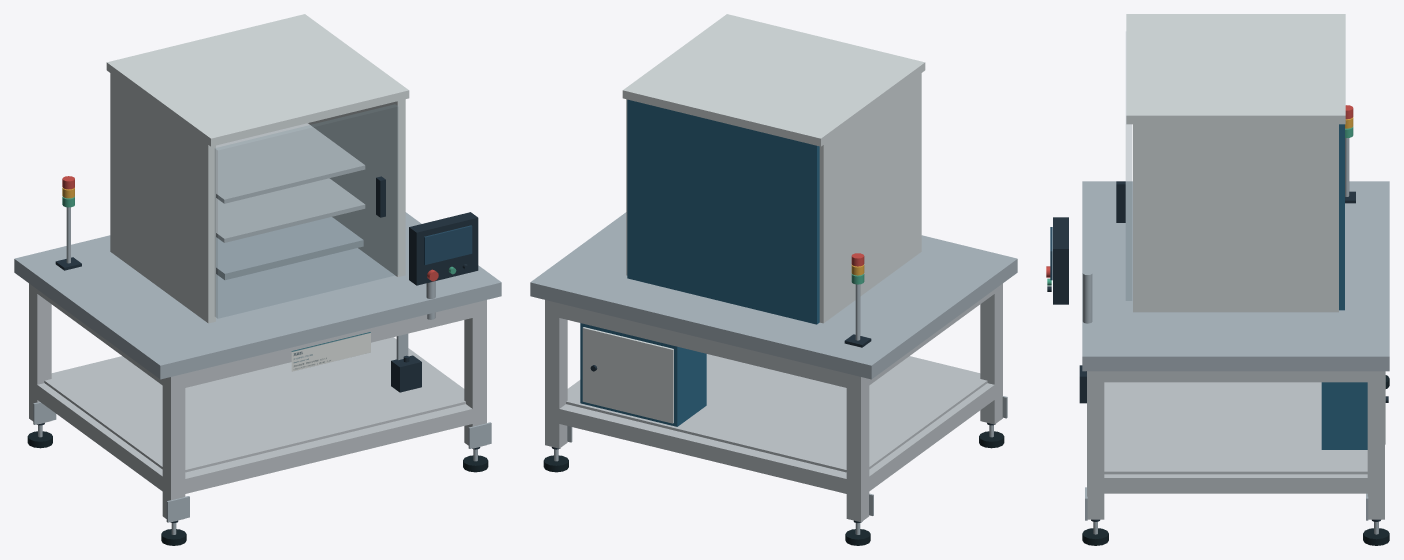
Rendered from steam-cooker-cell.glb.
3 views of the same model, side by side, from view 1: azimuth 30°, elevation 25°; view 2: azimuth 150°, elevation 25°; view 3: azimuth 270°, elevation 25° (orthographic). The views are drawn at different scales.
Visible parts, largest first — view 1: ClosedMachineBed_28, DoorFrame_52, LowerShelf_29, ClosedRoof_51, EnclosureSide_48, EnclosureSide_49, InternalRack_56, SlottedExtrusion_22, InternalRack_55, ProcessShelf_54, SlottedExtrusion_23, SlottedExtrusion_8 (+8 smaller); view 2: ClosedBack_50, ClosedMachineBed_28, ClosedRoof_51, LowerShelf_29, EnclosureSide_48, BackDoor_31, SlottedExtrusion_20, SlottedExtrusion_21, SlottedExtrusion_3, Cabinet_30, SlottedExtrusion_13, SlottedExtrusion_24 (+2 smaller); view 3: EnclosureSide_49, ClosedMachineBed_28, ClosedRoof_51, LowerShelf_29, SlottedExtrusion_26, SlottedExtrusion_27, Cabinet_30, SlottedExtrusion_18, SlottedExtrusion_13, ConsoleBack_34, ClosedBack_50, DoorFrame_52 (+2 smaller).
Boxes of the visible parts, left/top/right/bottom form: ClosedMachineBed_28: left=14, top=212, right=501, bottom=379; DoorFrame_52: left=215, top=104, right=398, bottom=318; LowerShelf_29: left=44, top=338, right=465, bottom=472; ClosedRoof_51: left=106, top=14, right=409, bottom=146; EnclosureSide_48: left=110, top=73, right=215, bottom=323; EnclosureSide_49: left=308, top=99, right=405, bottom=276; InternalRack_56: left=216, top=123, right=365, bottom=203; SlottedExtrusion_22: left=178, top=404, right=476, bottom=495; InternalRack_55: left=216, top=178, right=365, bottom=242; ProcessShelf_54: left=216, top=217, right=363, bottom=280; SlottedExtrusion_23: left=178, top=303, right=472, bottom=388; SlottedExtrusion_8: left=162, top=373, right=185, bottom=522; ClosedBack_50: left=627, top=99, right=819, bottom=324; ClosedMachineBed_28: left=530, top=212, right=1017, bottom=379; ClosedRoof_51: left=622, top=14, right=925, bottom=146; LowerShelf_29: left=566, top=354, right=987, bottom=472; EnclosureSide_48: left=819, top=73, right=921, bottom=323; BackDoor_31: left=582, top=327, right=673, bottom=423; SlottedExtrusion_20: left=553, top=404, right=853, bottom=494; SlottedExtrusion_21: left=559, top=303, right=853, bottom=387; SlottedExtrusion_3: left=846, top=373, right=869, bottom=522; Cabinet_30: left=580, top=323, right=706, bottom=426; SlottedExtrusion_13: left=545, top=300, right=567, bottom=448; SlottedExtrusion_24: left=865, top=383, right=994, bottom=493; EnclosureSide_49: left=1133, top=124, right=1338, bottom=312; ClosedMachineBed_28: left=1082, top=181, right=1389, bottom=371; ClosedRoof_51: left=1126, top=14, right=1345, bottom=124; LowerShelf_29: left=1104, top=382, right=1367, bottom=474; SlottedExtrusion_26: left=1095, top=474, right=1376, bottom=493; SlottedExtrusion_27: left=1095, top=371, right=1376, bottom=382; Cabinet_30: left=1321, top=382, right=1367, bottom=449; SlottedExtrusion_18: left=1087, top=371, right=1104, bottom=519; SlottedExtrusion_13: left=1367, top=371, right=1384, bottom=519; ConsoleBack_34: left=1053, top=217, right=1068, bottom=304; ClosedBack_50: left=1339, top=124, right=1344, bottom=310; DoorFrame_52: left=1126, top=124, right=1131, bottom=300.
Bounding box in the file's own units: 1.55 × 1.64 × 1.29.
12 materials, 1 textured.
